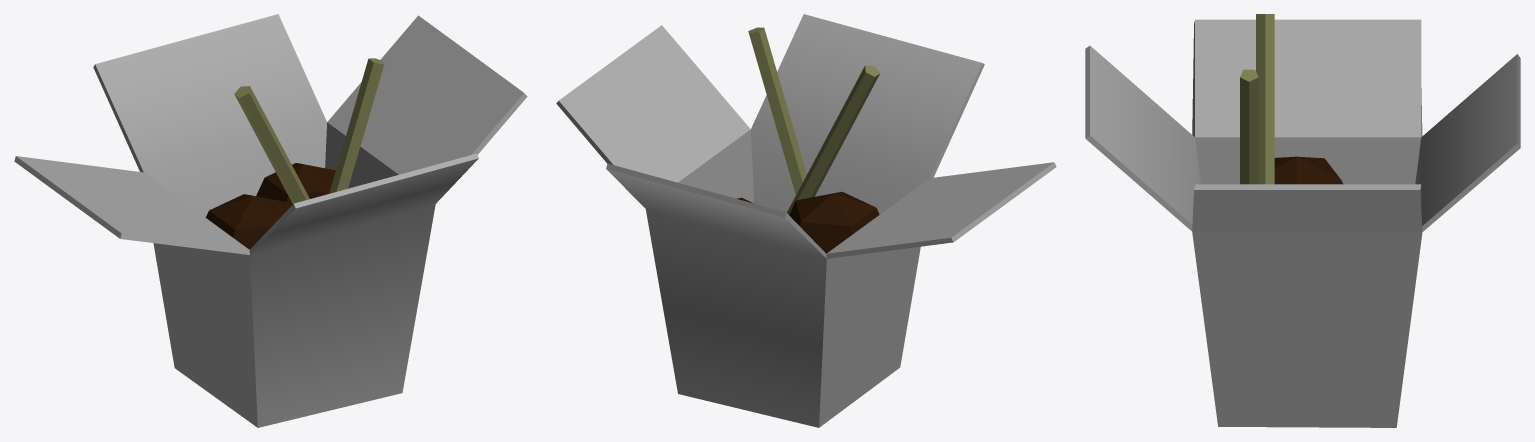
Rendered from ChineseFood.fbx.
The picture shows the model from 3 angles, left to right: view 1: azimuth 30°, elevation 25°; view 2: azimuth 150°, elevation 25°; view 3: azimuth 270°, elevation 25°; orthographic projection. The views are drawn at different scales.
Parts seen in each view (by area): view 1: comida_c_box; view 2: comida_c_box; view 3: comida_c_box.
Part boxes in pixels (left/top/right/bottom): comida_c_box: left=14, top=14, right=527, bottom=427; comida_c_box: left=556, top=14, right=1056, bottom=427; comida_c_box: left=1085, top=14, right=1520, bottom=427.
Bounding box in the file's own units: 55.78 × 42.78 × 48.32.
